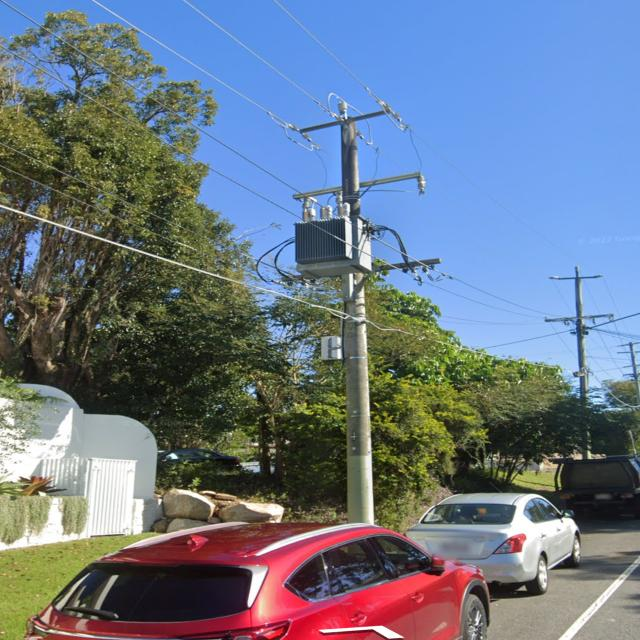HV-transmission: (286, 98, 426, 210), (548, 266, 603, 280)
LV link: (422, 264, 452, 282), (299, 280, 340, 292), (408, 266, 425, 286), (270, 279, 294, 289)
concrete-pole: (340, 116, 376, 524)
crossarm: (279, 258, 441, 282), (294, 172, 422, 200), (300, 107, 390, 133), (544, 313, 614, 323), (557, 276, 595, 280), (618, 341, 640, 347), (623, 363, 640, 368), (617, 351, 640, 354), (622, 373, 640, 376)
timber-pole: (574, 275, 592, 460)
transformer: (293, 204, 368, 282)
